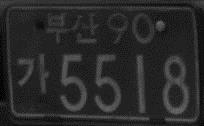0: (129, 12, 156, 45)
1: (136, 51, 152, 113)
5: (92, 53, 123, 112), (60, 51, 88, 111)
8: (162, 55, 191, 116)
9: (106, 12, 130, 45)
가: (16, 51, 52, 97)
부산_O: (44, 10, 100, 44)
